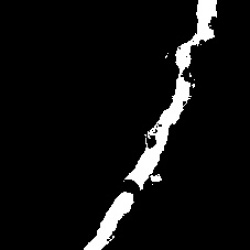crack: (84, 1, 217, 249)
